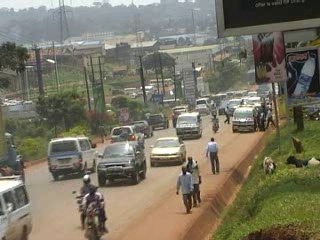Car: (94, 136, 148, 186), (148, 133, 190, 166), (109, 124, 147, 150), (127, 118, 154, 139), (144, 112, 171, 130), (169, 108, 191, 127), (216, 98, 229, 115), (193, 102, 209, 115)
Motorcycle: (77, 187, 109, 239), (71, 171, 99, 228), (210, 112, 220, 135), (209, 100, 219, 118)
